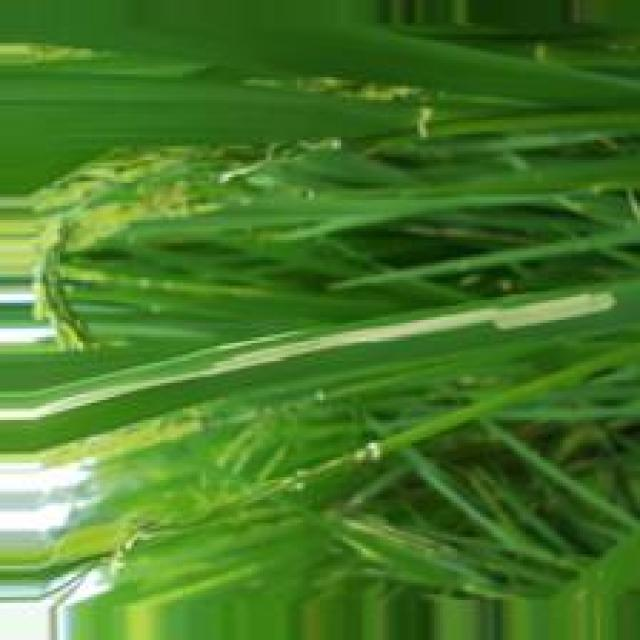Rice_Hispa: (0, 285, 621, 421)
